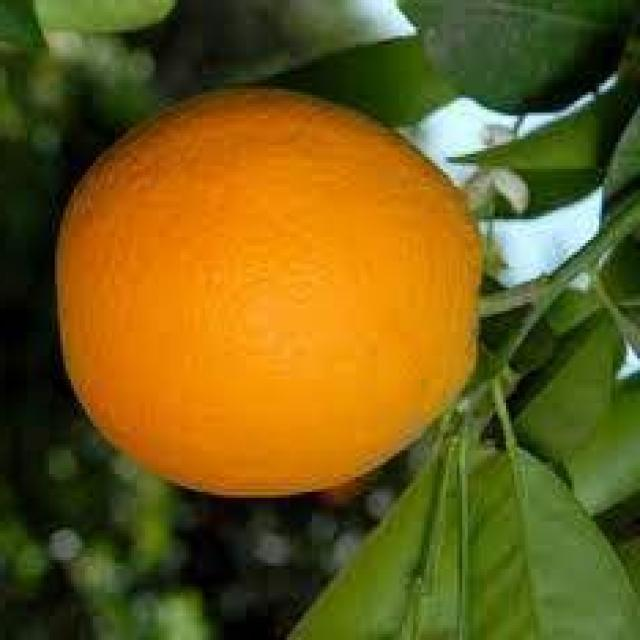Good_Orange: (52, 86, 481, 504)
